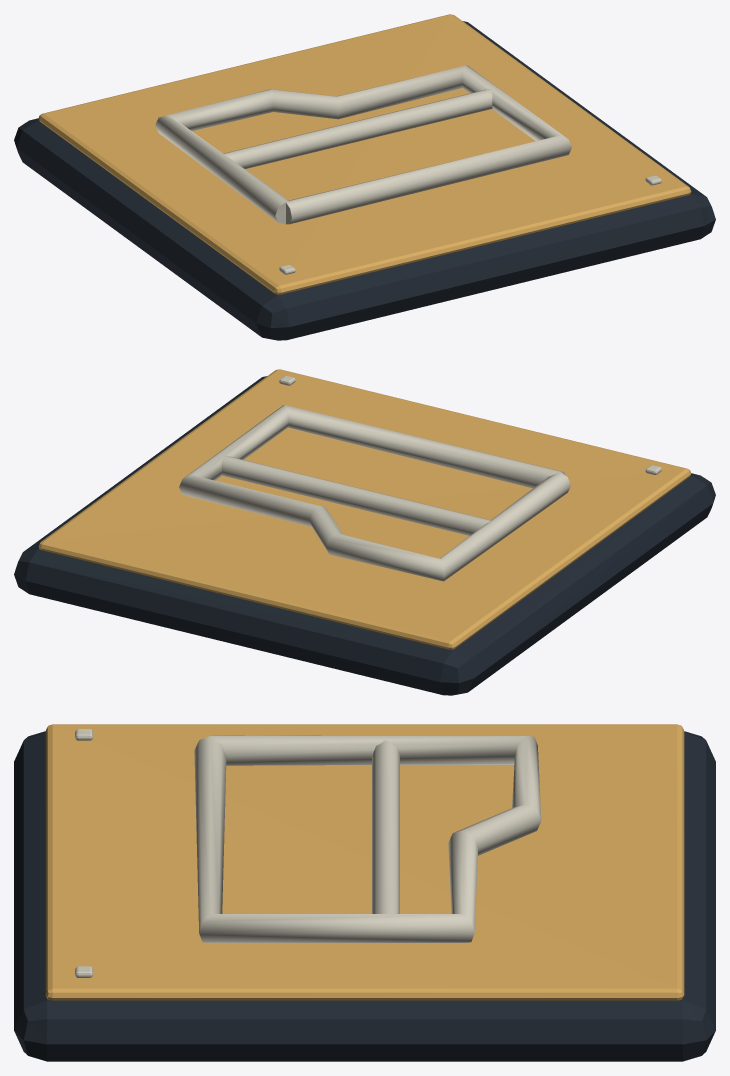
The model's file is app_files.glb.
3 views of the same model, one above another, from view 1: azimuth 30°, elevation 25°; view 2: azimuth 150°, elevation 25°; view 3: azimuth 270°, elevation 25° (orthographic). The views are drawn at different scales.
Visible parts, largest first — view 1: app_files; view 2: app_files; view 3: app_files.
Boxes of the visible parts, x1,y1,x2,y2 form: app_files: (14, 14, 715, 340); app_files: (14, 369, 715, 695); app_files: (14, 724, 715, 1061).
Bounding box in the file's own units: 1 × 0.159 × 1.
